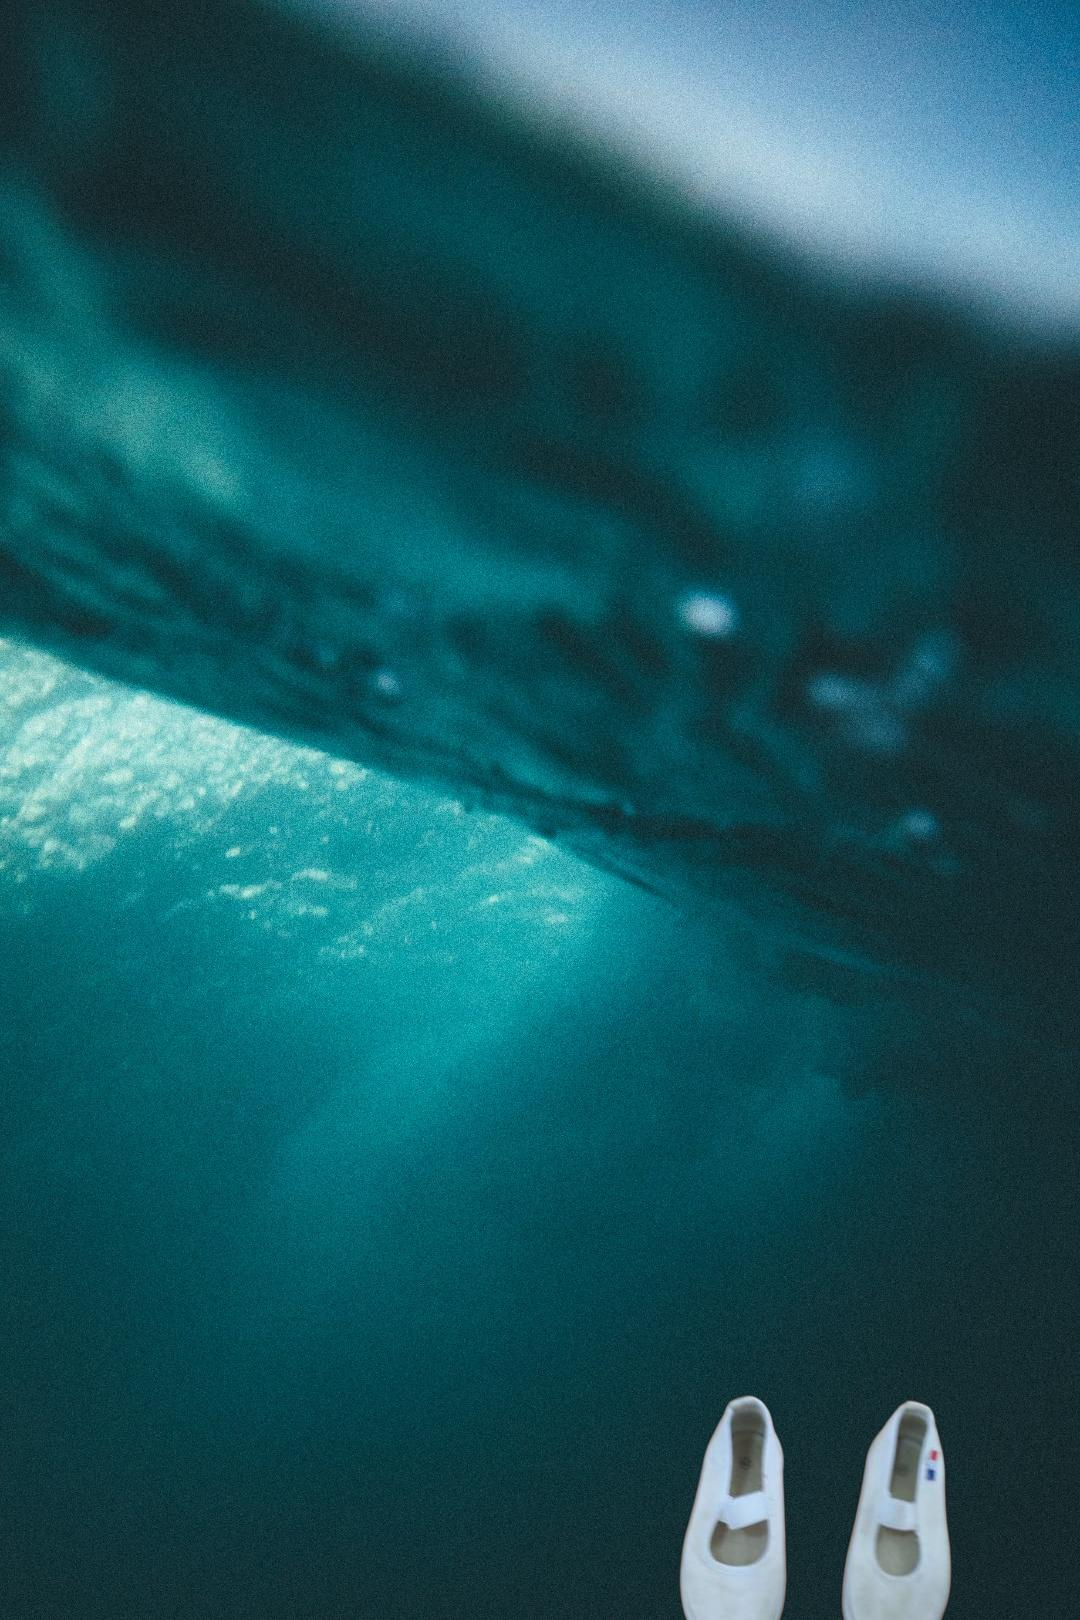shoes: (675, 1390, 956, 1620)
